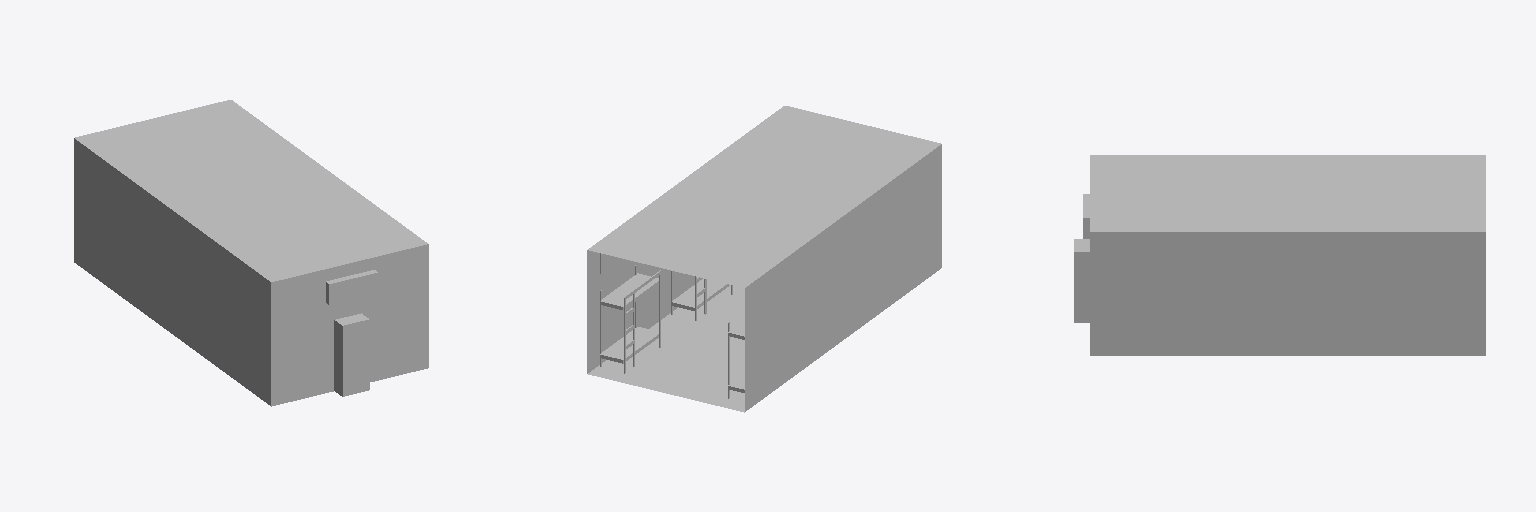
File: insidegilad 1.obj
The picture shows the model from 3 angles: view 1: azimuth 30°, elevation 25°; view 2: azimuth 150°, elevation 25°; view 3: azimuth 270°, elevation 25°; orthographic projection.
Parts seen in each view (by area): view 1: Cube_Cube.001, Cube.001_Cube.002, Cube.074_Cube.074; view 2: Cube_Cube.001, Cube.067_Cube.067, Cube.068_Cube.068, Cube.034_Cube.034; view 3: Cube_Cube.001, Cube.001_Cube.002, Cube.090_Cube.090, Cube.013_Cube.013, Cube.089_Cube.089.
Boxes of the visible parts, box(x1,y1,x2,y2) form: Cube_Cube.001: box(74, 100, 428, 406); Cube.001_Cube.002: box(334, 313, 369, 396); Cube.074_Cube.074: box(326, 270, 377, 305); Cube_Cube.001: box(587, 106, 941, 412); Cube.067_Cube.067: box(600, 327, 658, 363); Cube.068_Cube.068: box(600, 273, 658, 309); Cube.034_Cube.034: box(671, 278, 729, 310); Cube_Cube.001: box(1090, 155, 1485, 355); Cube.001_Cube.002: box(1074, 239, 1089, 322); Cube.090_Cube.090: box(1254, 244, 1310, 264); Cube.013_Cube.013: box(1117, 244, 1172, 264); Cube.089_Cube.089: box(1404, 244, 1459, 264).
Size of the model in its own units: 2.54 by 1.91 by 5.7.